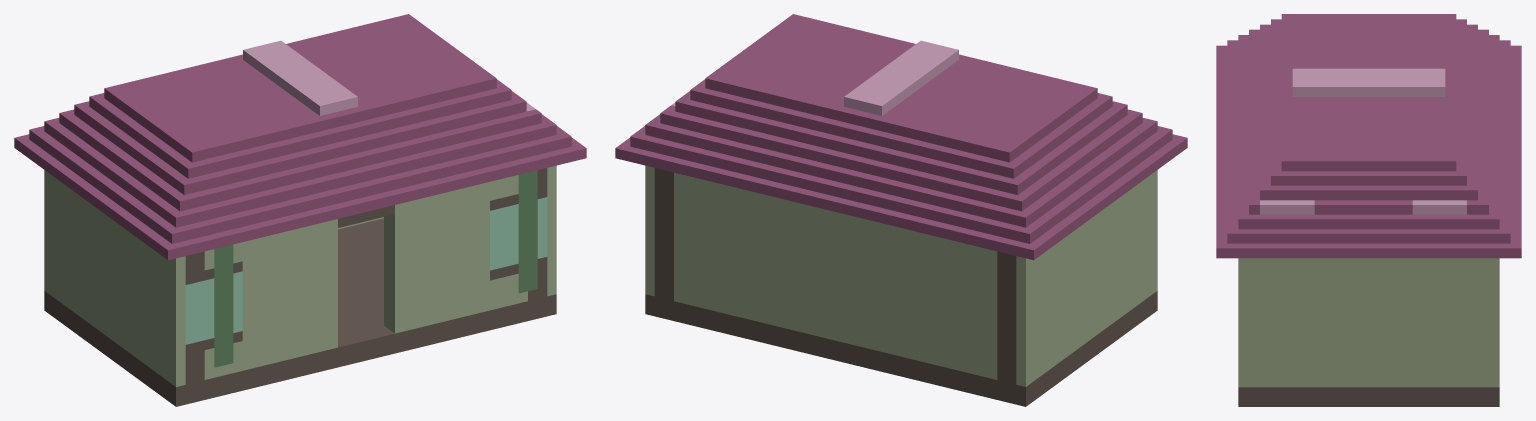
Rendered from workshop.glb.
The picture shows the model from 3 angles, left to right: view 1: azimuth 30°, elevation 25°; view 2: azimuth 150°, elevation 25°; view 3: azimuth 270°, elevation 25°; orthographic projection.
Parts seen in each view (by area): view 1: Shell; view 2: Shell; view 3: Shell.
Boxes of the visible parts, left/top/right/bottom form: Shell: left=14, top=14, right=586, bottom=406; Shell: left=615, top=14, right=1187, bottom=406; Shell: left=1216, top=14, right=1521, bottom=406.
Size of the model in its own units: 5.5 by 3 by 3.5.
